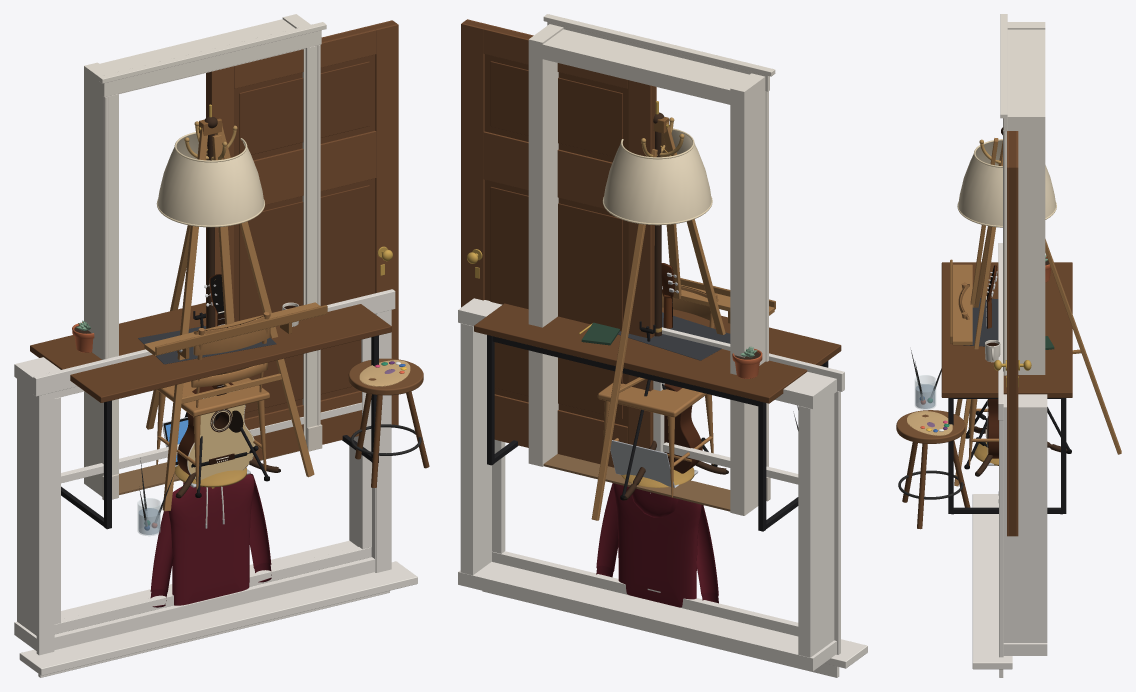
Rendered from room.glb.
The picture shows the model from 3 angles, left to right: view 1: azimuth 30°, elevation 25°; view 2: azimuth 150°, elevation 25°; view 3: azimuth 270°, elevation 25°; orthographic projection. The views are drawn at different scales.
Parts seen in each view (by area): view 1: Window Transom 1, DoorFrame Cap 1, DoorLeaf Field 3, DoorLeaf Rail 4, Desk Top 11, Hoodie Front, Easel Mast 21, Lamp Shade, DoorLeaf Slab 5, Chair Stretcher 1, Guitar Top, Desk Stretcher 9 (+14 smaller); view 2: Window Transom 1, DoorFrame Cap 1, DoorLeaf Field 3, DoorLeaf Rail 4, Desk Top 11, Hoodie Back, Lamp Shade, DoorLeaf Slab 5, Easel Mast 21, Desk Stretcher 9, Chair Stretcher 1, DoorFrame Threshold 0 (+10 smaller); view 3: Window Transom 1, DoorFrame Cap 1, Desk Top 11, Easel Mast 21, DoorLeaf Slab 5, Lamp Shade, DoorLeaf Rail 4, Desk Stretcher 9, Easel Tray 23, Easel Stool 17, Easel Stool 18, Desk Mat 8 (+7 smaller).
Part boxes in pixels (left/top/right/bottom): Window Transom 1: left=14, top=289, right=417, bottom=677; DoorFrame Cap 1: left=84, top=14, right=326, bottom=496; DoorLeaf Field 3: left=239, top=61, right=369, bottom=412; DoorLeaf Rail 4: left=206, top=20, right=398, bottom=460; Desk Top 11: left=30, top=302, right=391, bottom=402; Hoodie Front: left=168, top=474, right=254, bottom=605; Easel Mast 21: left=146, top=125, right=314, bottom=511; Lamp Shade: left=157, top=134, right=264, bottom=225; DoorLeaf Slab 5: left=207, top=21, right=396, bottom=418; Chair Stretcher 1: left=156, top=312, right=269, bottom=492; Guitar Top: left=188, top=391, right=254, bottom=479; Desk Stretcher 9: left=61, top=335, right=378, bottom=529; Window Transom 1: left=458, top=298, right=867, bottom=677; DoorFrame Cap 1: left=528, top=14, right=775, bottom=515; DoorLeaf Field 3: left=490, top=61, right=622, bottom=418; DoorLeaf Rail 4: left=461, top=19, right=656, bottom=467; Desk Top 11: left=474, top=303, right=841, bottom=403; Hoodie Back: left=613, top=483, right=701, bottom=607; Lamp Shade: left=603, top=130, right=711, bottom=223; DoorLeaf Slab 5: left=462, top=20, right=655, bottom=443; Easel Mast 21: left=591, top=121, right=725, bottom=520; Desk Stretcher 9: left=487, top=335, right=828, bottom=531; Chair Stretcher 1: left=597, top=293, right=717, bottom=497; DoorFrame Threshold 0: left=543, top=454, right=730, bottom=511; Window Transom 1: left=972, top=243, right=1047, bottom=677; DoorFrame Cap 1: left=1000, top=14, right=1045, bottom=375; Desk Top 11: left=941, top=262, right=1072, bottom=397; Easel Mast 21: left=954, top=138, right=1121, bottom=486; DoorLeaf Slab 5: left=1009, top=131, right=1016, bottom=536; Lamp Shade: left=958, top=141, right=1055, bottom=225; DoorLeaf Rail 4: left=1007, top=131, right=1018, bottom=536; Desk Stretcher 9: left=948, top=398, right=1066, bottom=513; Easel Tray 23: left=952, top=264, right=972, bottom=345; Easel Stool 17: left=902, top=440, right=970, bottom=529; Easel Stool 18: left=896, top=410, right=965, bottom=443; Desk Mat 8: left=963, top=298, right=998, bottom=346.
Bounding box in the file's own units: 2.2 × 3.25 × 1.24.
